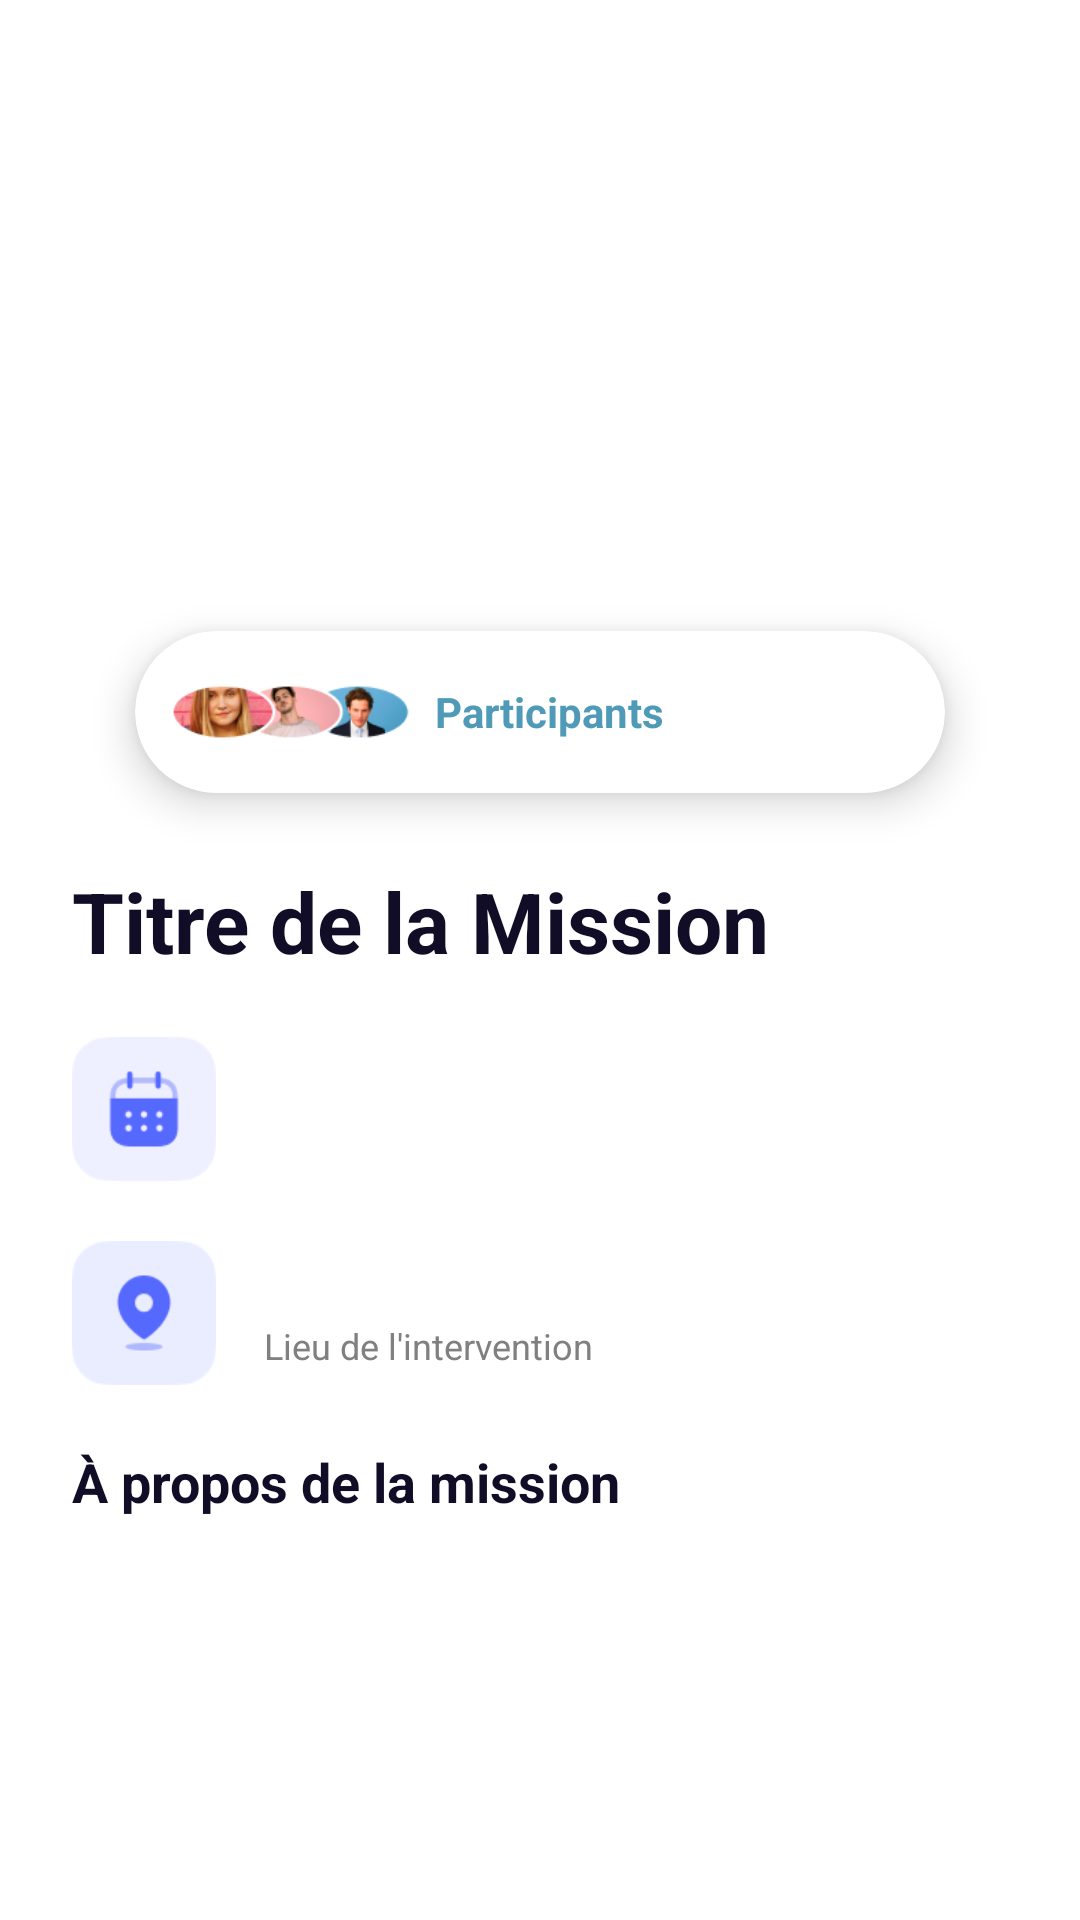

Where icons sit on this 1080w x 1920h app screen, as rect(x1, y1, x2, y2):
avatars group: rect(173, 686, 409, 738)
